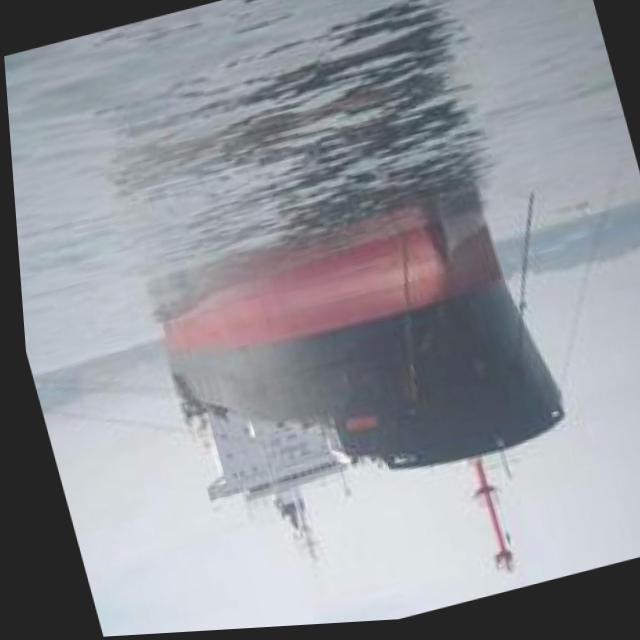ship2: (156, 219, 560, 535)
